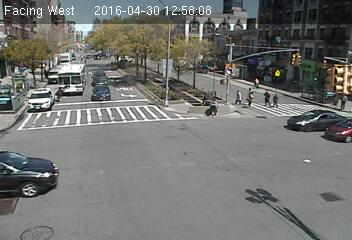neg: (138, 160, 167, 198), (152, 80, 180, 117), (255, 179, 280, 212), (42, 171, 66, 202), (321, 183, 343, 212), (96, 27, 118, 56), (239, 138, 260, 166), (50, 88, 69, 113), (289, 45, 305, 67), (326, 58, 342, 79), (146, 44, 161, 64), (51, 126, 66, 146), (102, 77, 117, 96), (115, 146, 126, 161)
pos: (203, 94, 221, 118), (243, 85, 259, 106), (259, 88, 273, 107), (270, 90, 284, 109), (335, 93, 348, 109), (232, 85, 244, 102)
